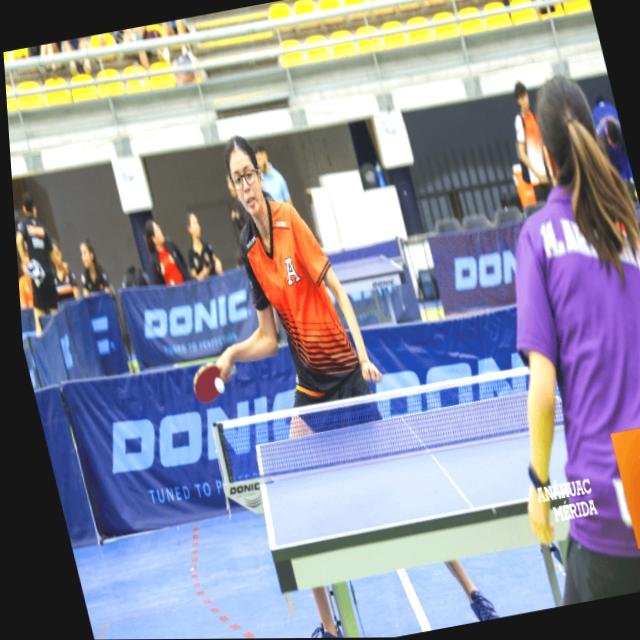TT Net: (207, 348, 634, 495)
TT Racket: (186, 349, 231, 413)
TT Table: (256, 384, 640, 547)
